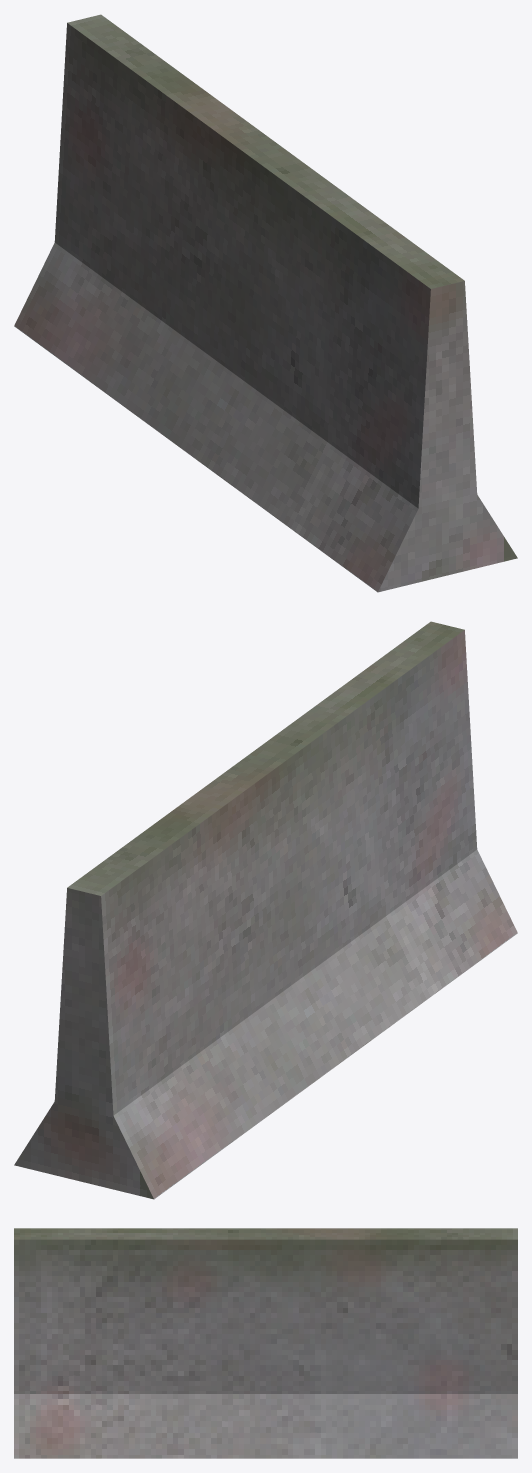
File: barracade.glb
The picture shows the model from 3 angles, top to bottom: view 1: azimuth 30°, elevation 25°; view 2: azimuth 150°, elevation 25°; view 3: azimuth 270°, elevation 25°; orthographic projection. The views are drawn at different scales.
Parts seen in each view (by area): view 1: Cube; view 2: Cube; view 3: Cube.
Part boxes in pixels (left/top/right/bottom): Cube: left=14, top=14, right=517, bottom=592; Cube: left=14, top=621, right=517, bottom=1199; Cube: left=14, top=1228, right=517, bottom=1458.
Bounding box in the file's own units: 2 × 3.96 × 8.99.
Materials: 1 (1 with a texture image).
